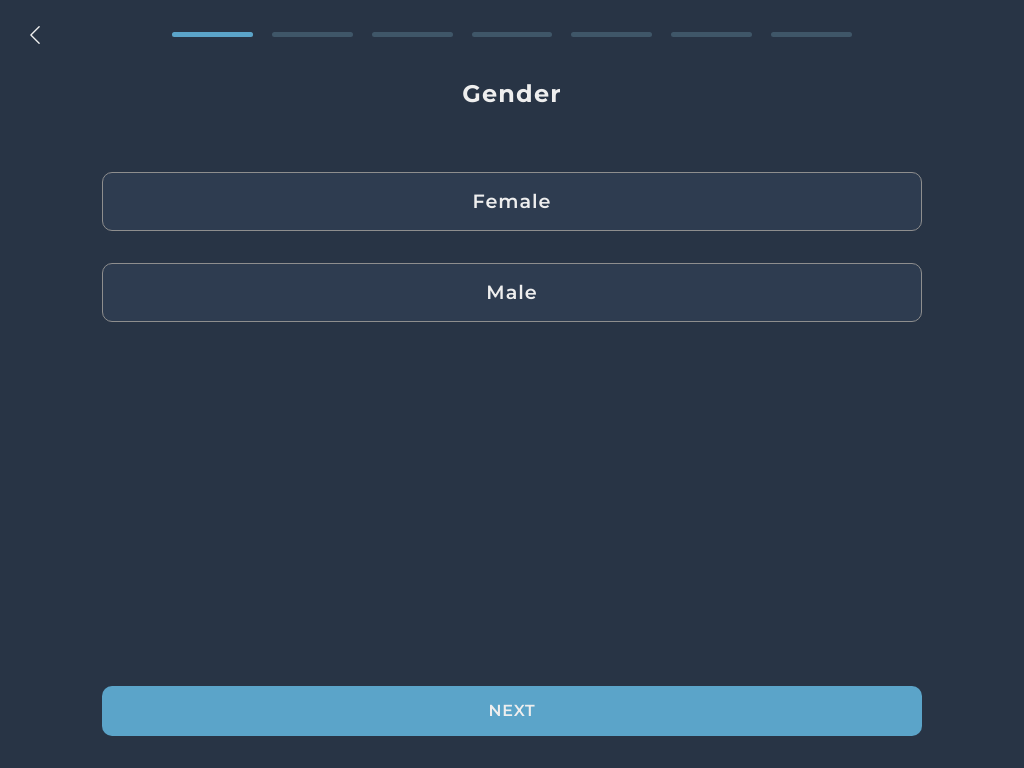
Gender › Should throw error on submit if no gender is selected
Click the button "NEXT": coordinates (512, 711) [102,686,922,736]
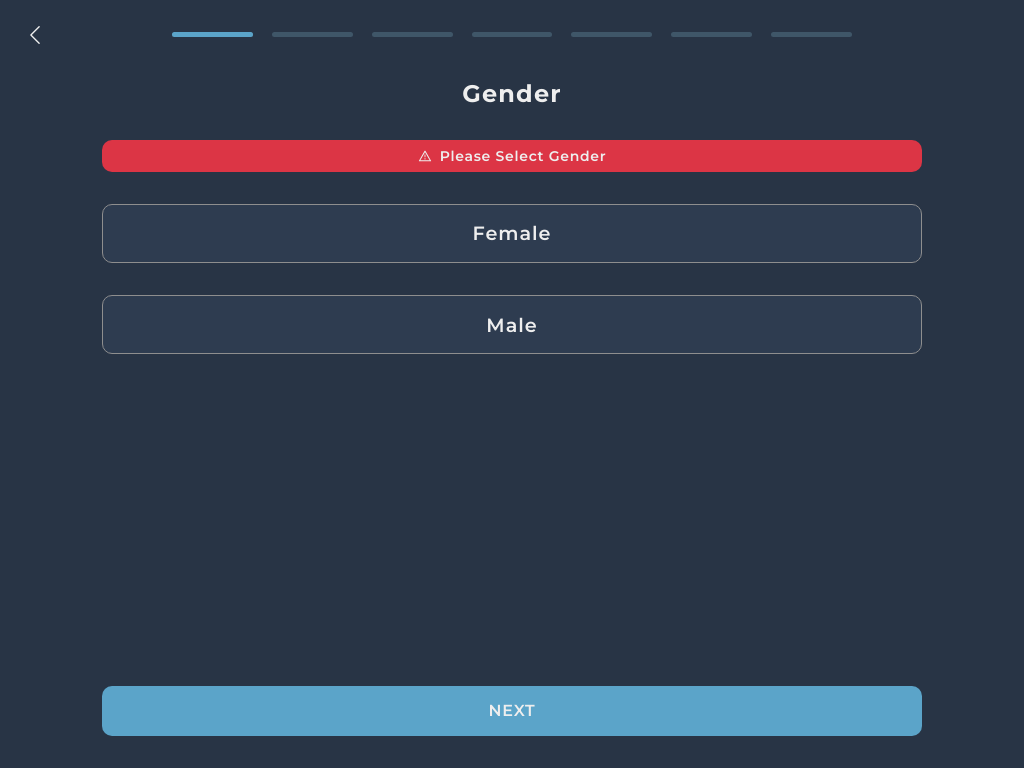
Now the text "Please Select Gender" is shown, box [102,140,922,172]
